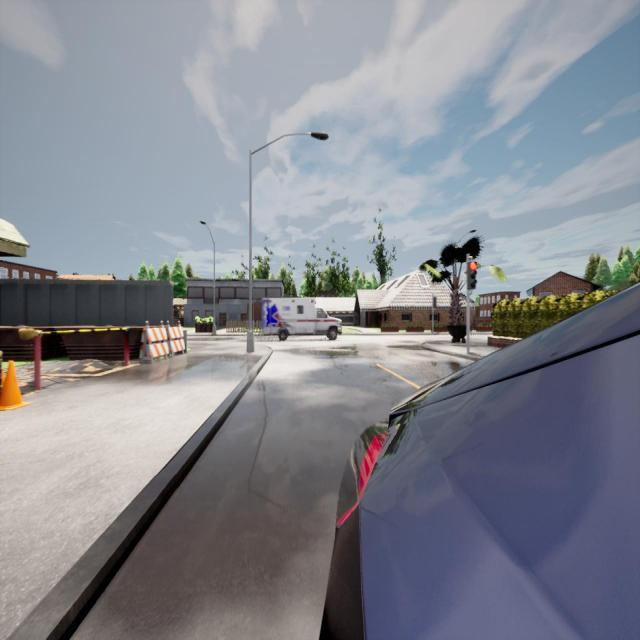Vehicle: (318, 283, 640, 640), (262, 296, 342, 344)
traffic_light: (467, 261, 476, 290), (434, 296, 436, 309)
